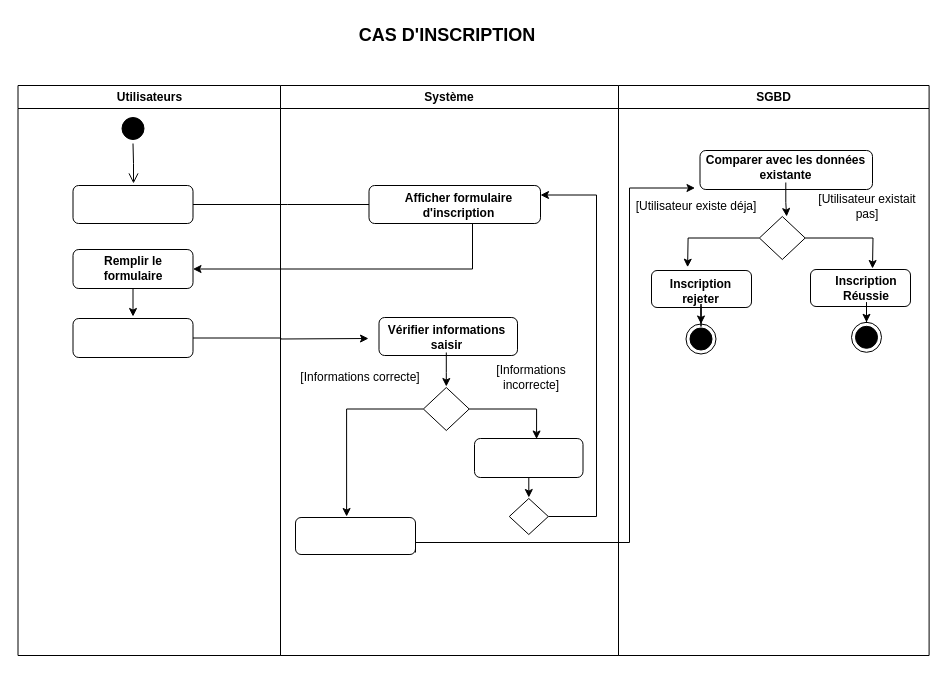
The diagram is 947 pixels wide and 673 high, and some of its shapes have lost their labels. The centre of each missing label's shape, as x and y in pixels:
Demander à s'inscrire: [132,204]
Envoyer les données au SGDB: [355,535]
Message d'erreur: [528,458]
Soumettre le formulaire: [132,338]
